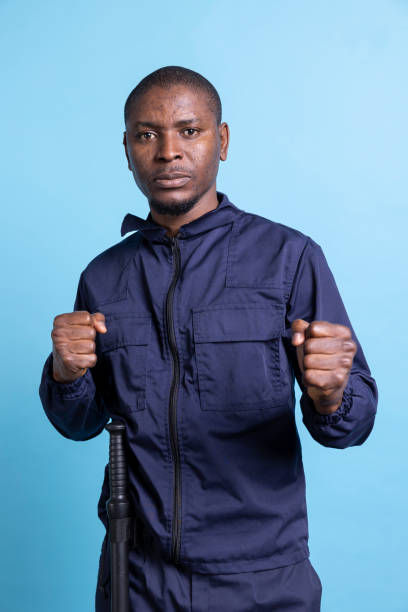Yes: (280, 305, 370, 414), (47, 304, 108, 379)
